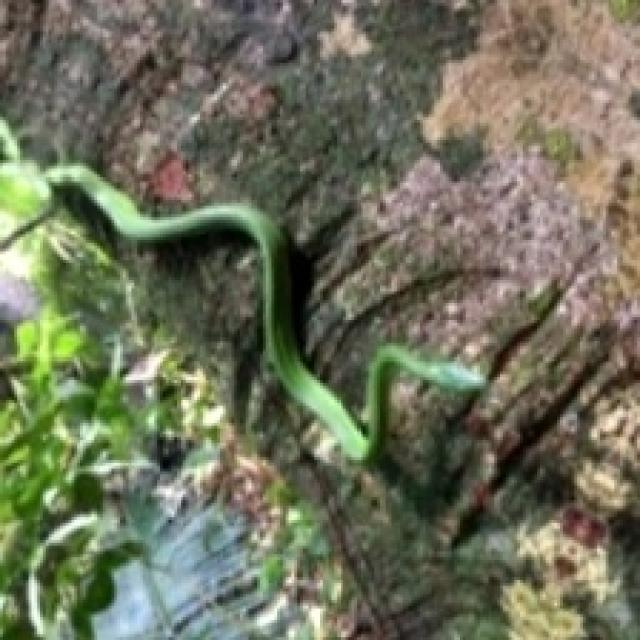red-tailed green ratsnake: (46, 163, 483, 460)
